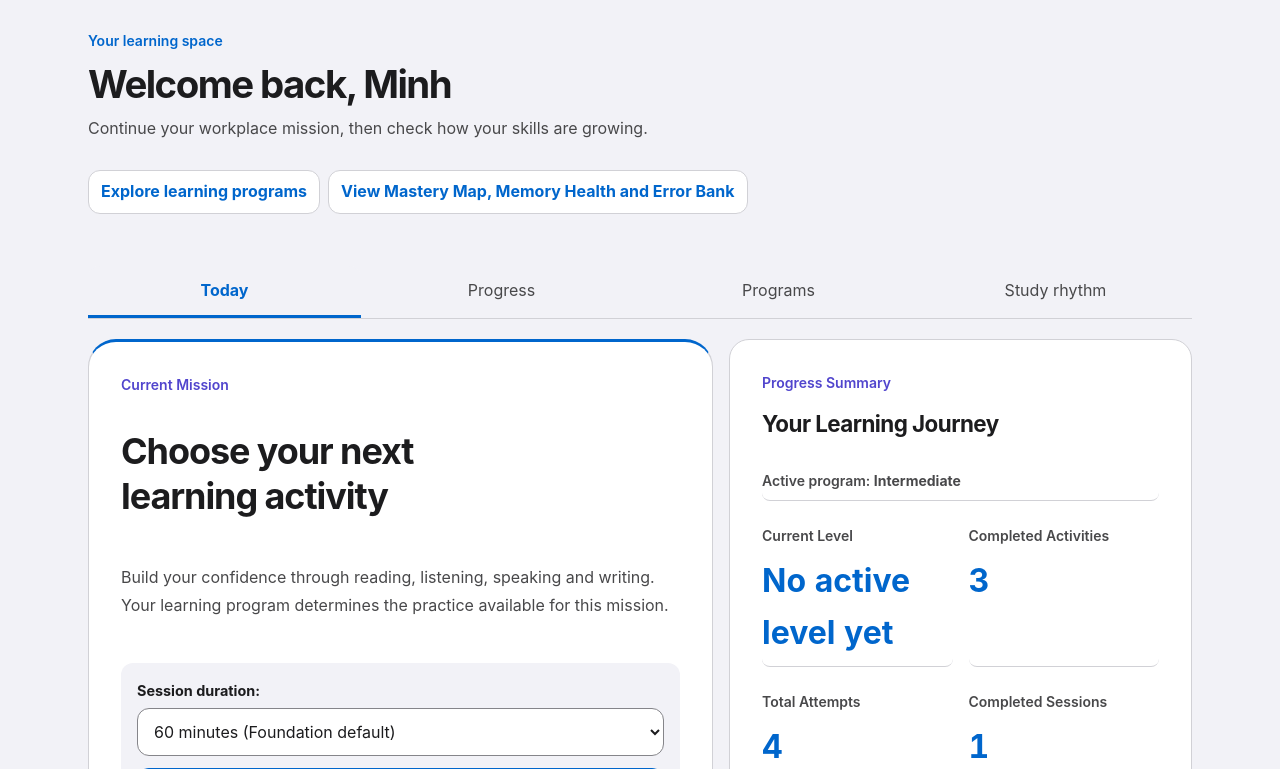
Test: DashboardView › keeps a null active level and empty assessment data honest
The width and height of the screenshot is (1280, 769).
Check: the text "No active level yet" is shown, box [762, 561, 910, 652]
Click the tab "Progress": [502, 292] box [365, 266, 638, 318]
(page scrolled)
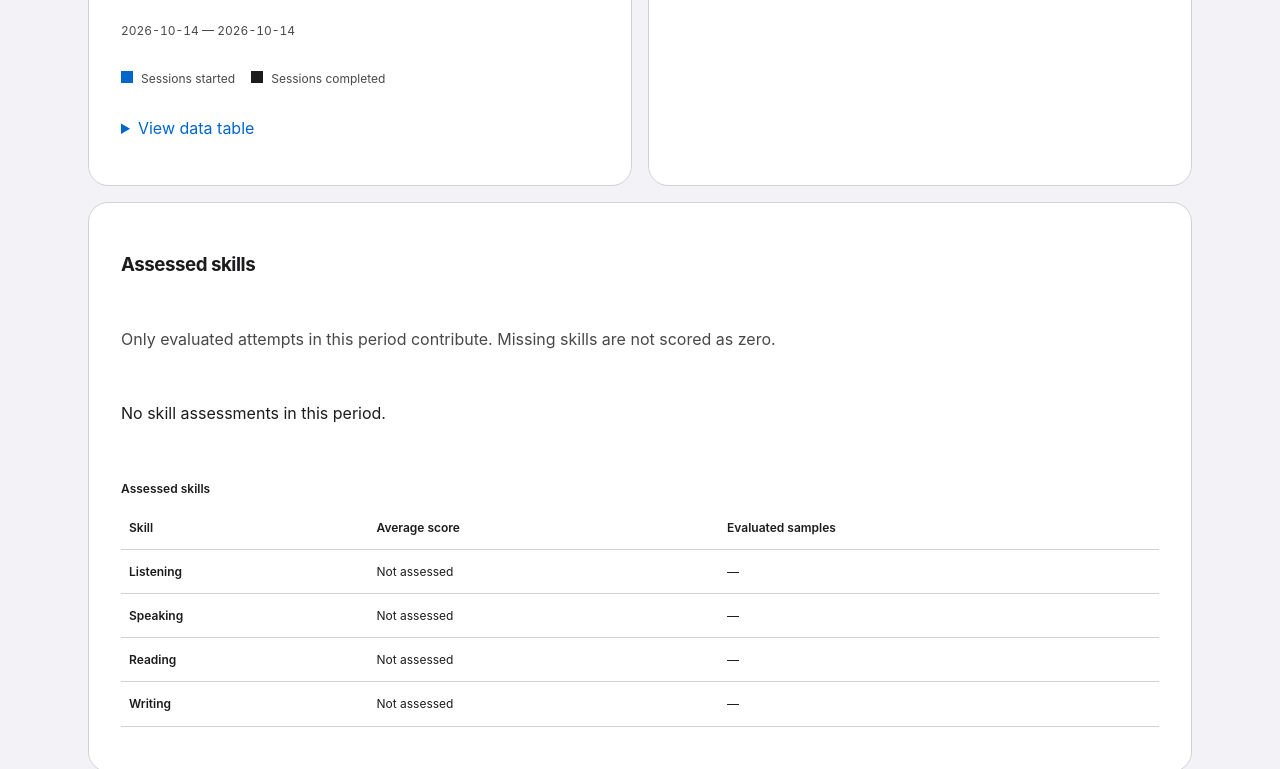
Check: the text "No skill assessments in this period." is shown, box [121, 403, 386, 423]
